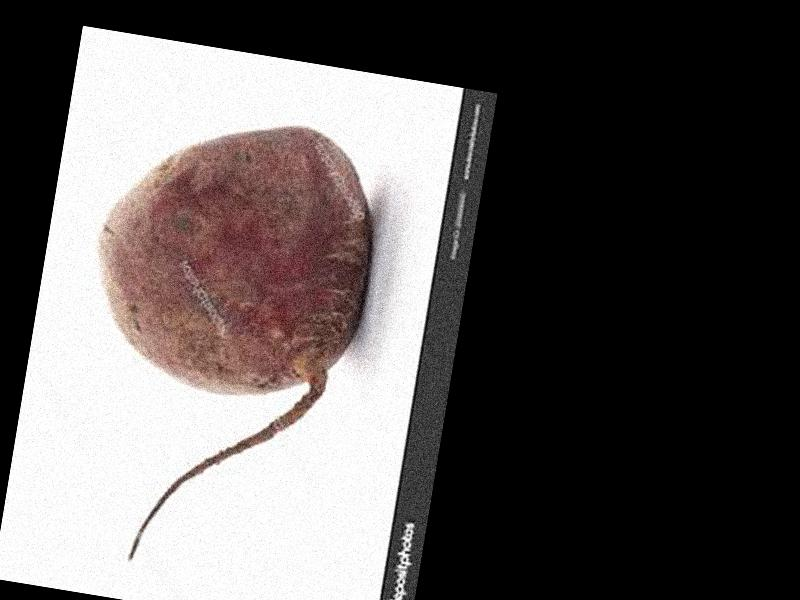Beet: (52, 98, 390, 589)
